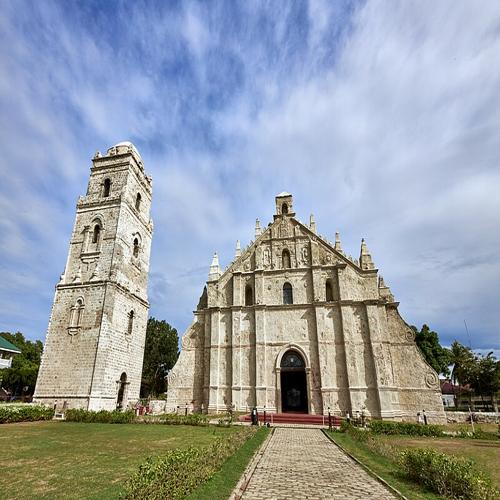Paoay Church: (34, 122, 450, 435)
